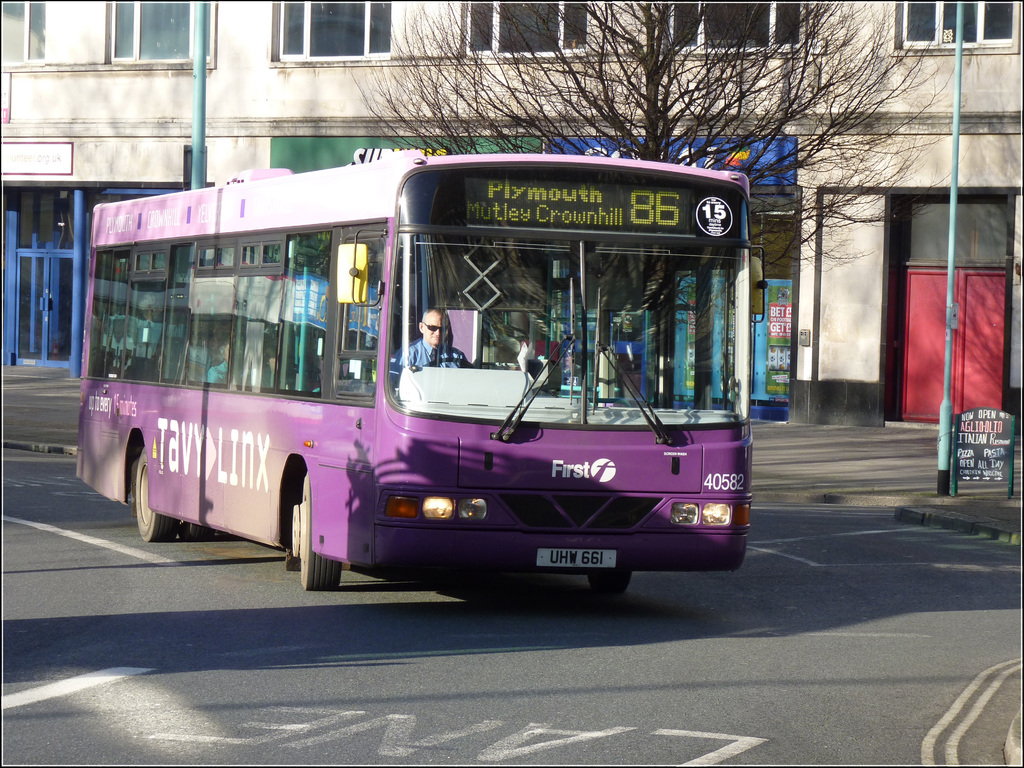Bus: (69, 144, 765, 590)
